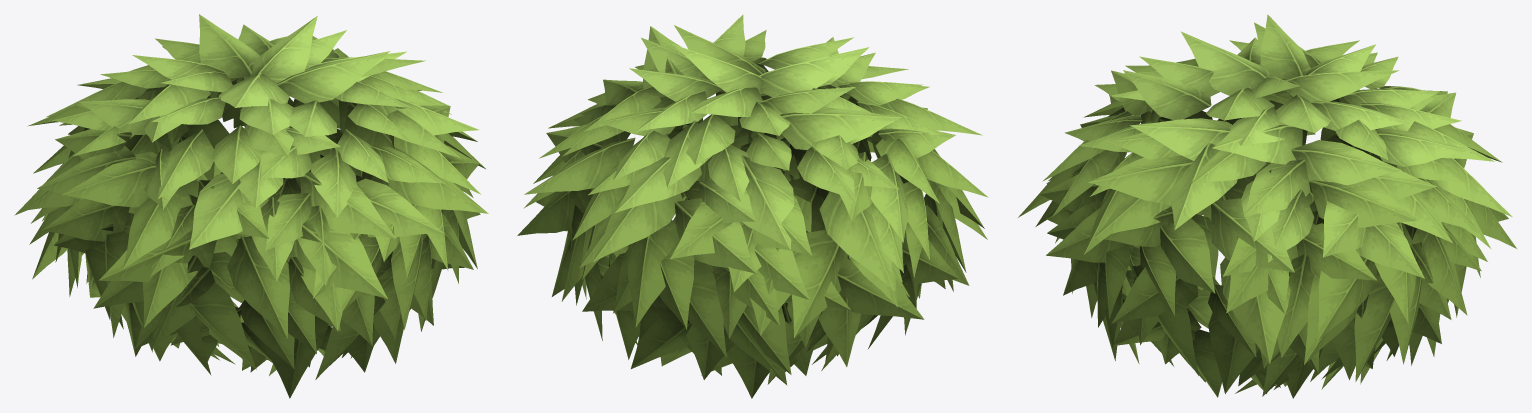
The picture shows the model from 3 angles, left to right: view 1: azimuth 30°, elevation 25°; view 2: azimuth 150°, elevation 25°; view 3: azimuth 270°, elevation 25°; orthographic projection. The views are drawn at different scales.
Visible parts, largest first — view 1: grid_9_leaves_LOD0; view 2: grid_9_leaves_LOD0; view 3: grid_9_leaves_LOD0.
Boxes of the visible parts, x1,y1,x2,y2 form: grid_9_leaves_LOD0: (14,14,488,398); grid_9_leaves_LOD0: (517,14,988,398); grid_9_leaves_LOD0: (1018,14,1516,398).
Size of what is drawn, in the model's own units: 1.35 by 0.9976 by 1.4.
Materials: 1 (1 with a texture image).
